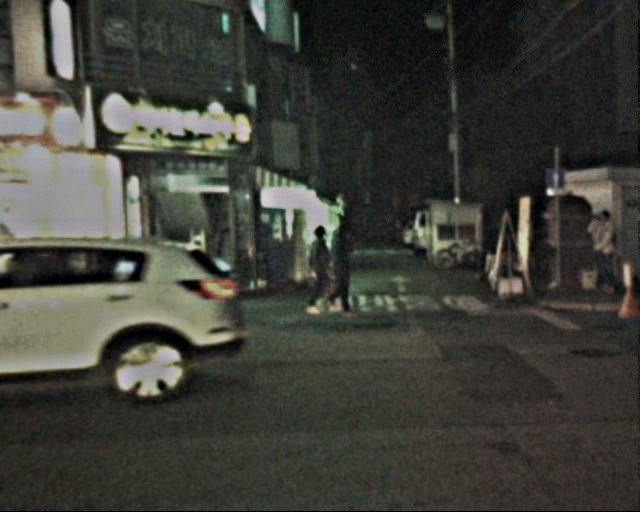person: (579, 208, 622, 302), (319, 227, 362, 317), (296, 225, 338, 316)
